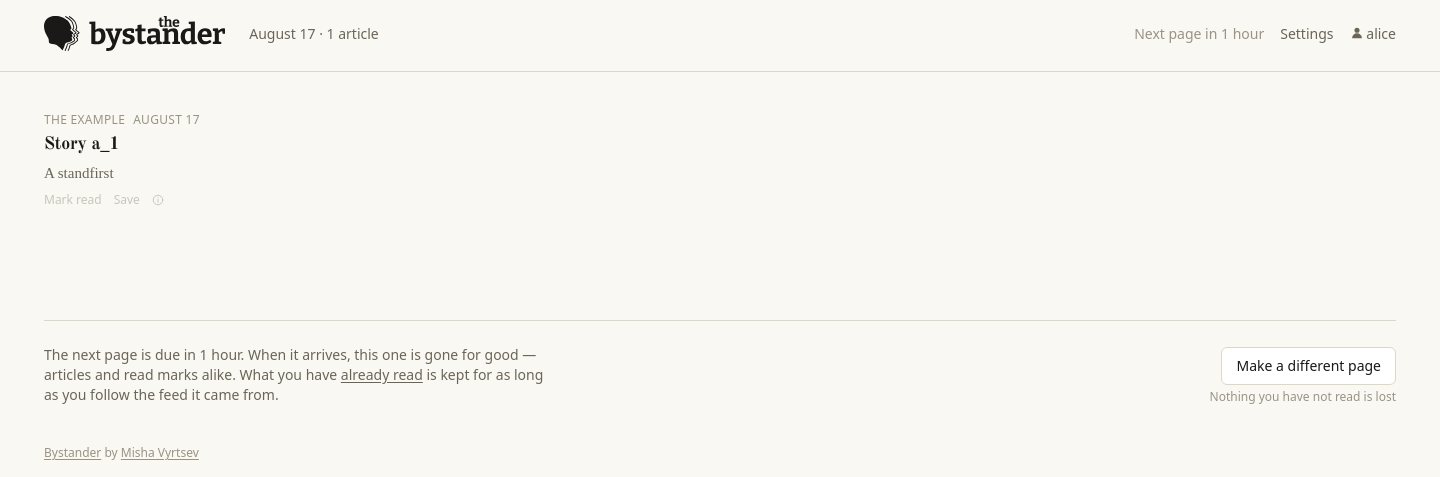
Test: ReaderPage › says nothing when the new page has something unread on it
Expected: the link "Story a_1" is shown, [44,135,120,153]
Click the button "Make a different page". click: (1309, 366)
box: [1222,347,1396,385]
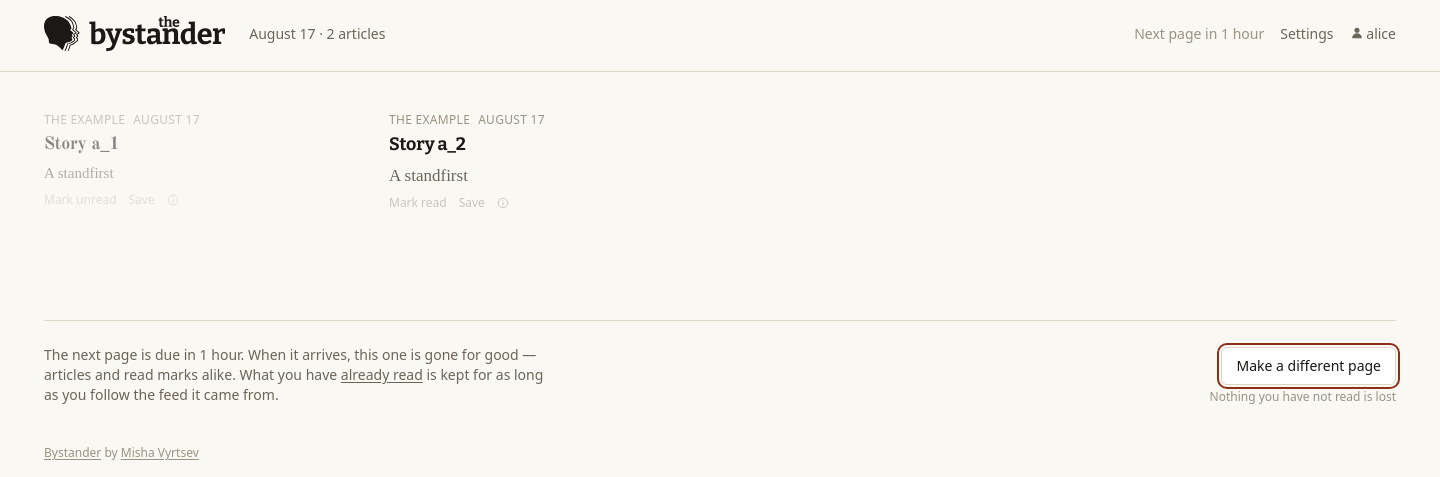
Expected: the link "Story a_2" is shown, [389,133,466,155]
